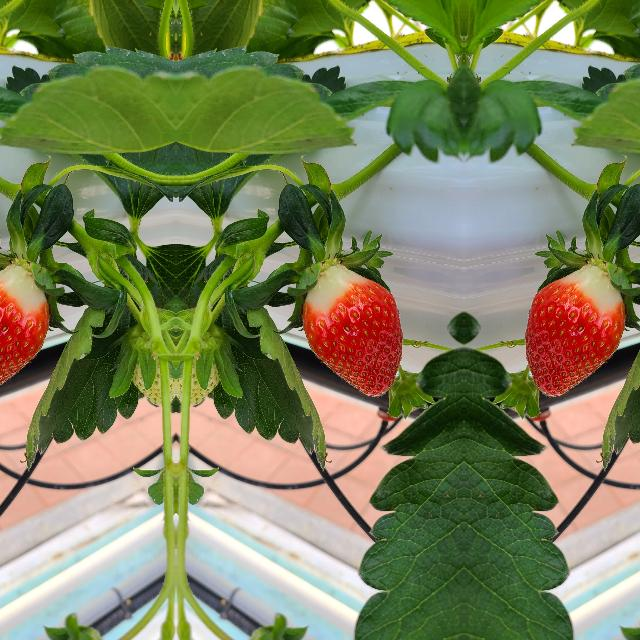Health_100: (300, 264, 402, 398), (524, 264, 626, 398), (0, 264, 50, 398)
